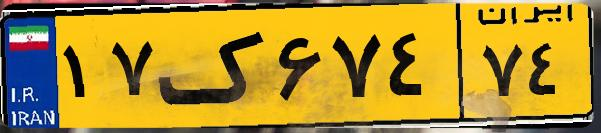1: (57, 26, 110, 100)
4: (385, 28, 445, 110), (525, 38, 570, 115)
6: (270, 28, 330, 110)
7: (330, 28, 385, 110), (475, 38, 525, 113), (110, 28, 158, 98)
ک: (158, 12, 270, 120)
